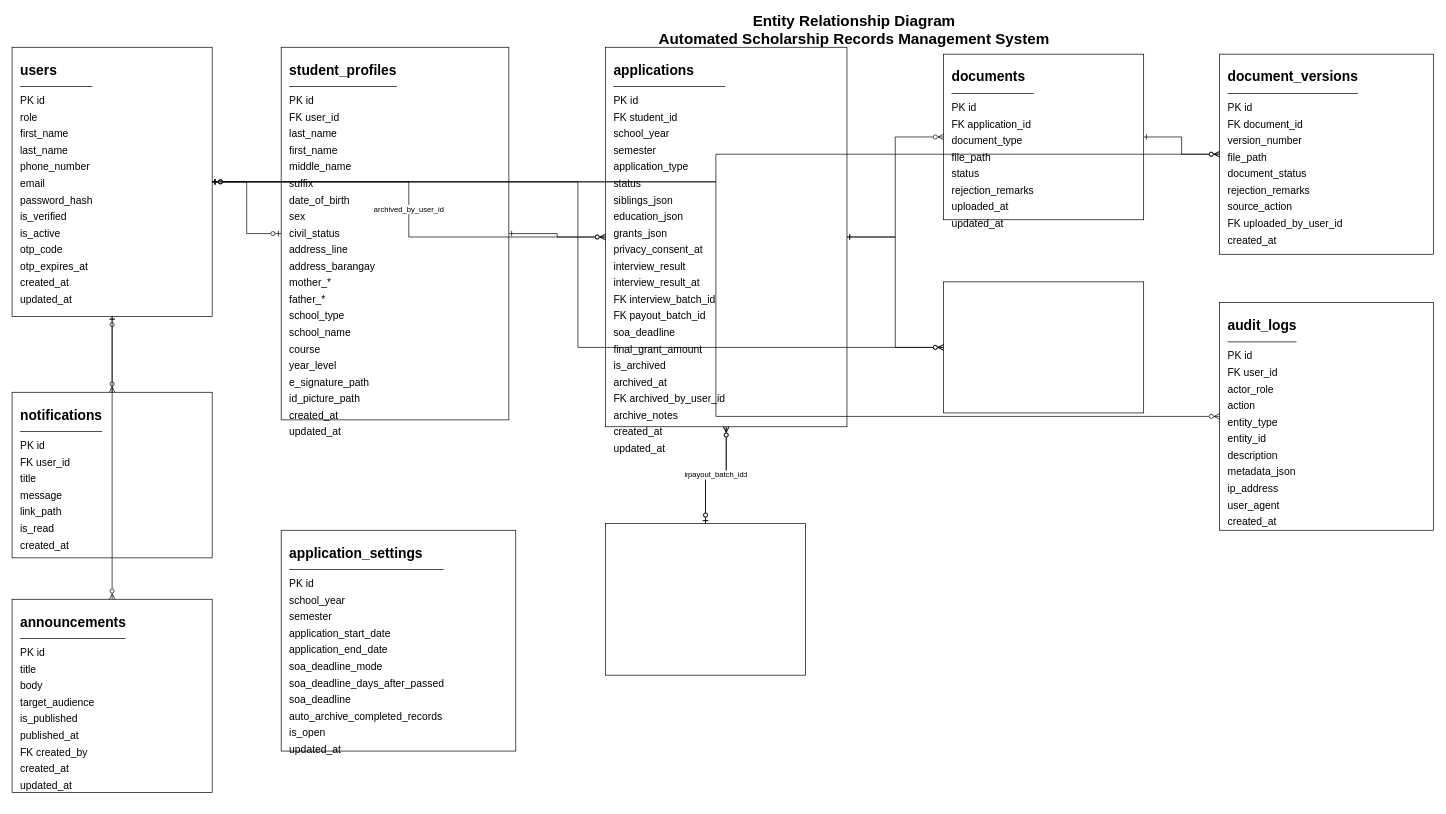
This 1446x814 diagram has some shape labels left out. The centre of each missing label's shape, as x and y in pixels:
batches PK id batch_type batch_name scheduled_date venue created_at: [705,599]
case_notes PK id FK application_id FK user_id note_text created_at: [1043,347]
